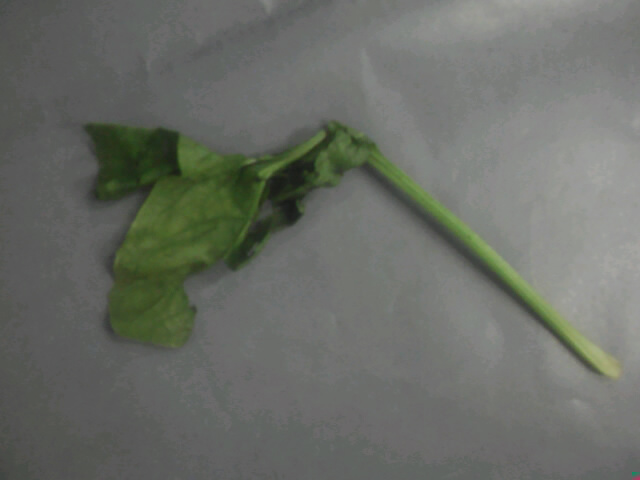yellow: (69, 83, 407, 368)
